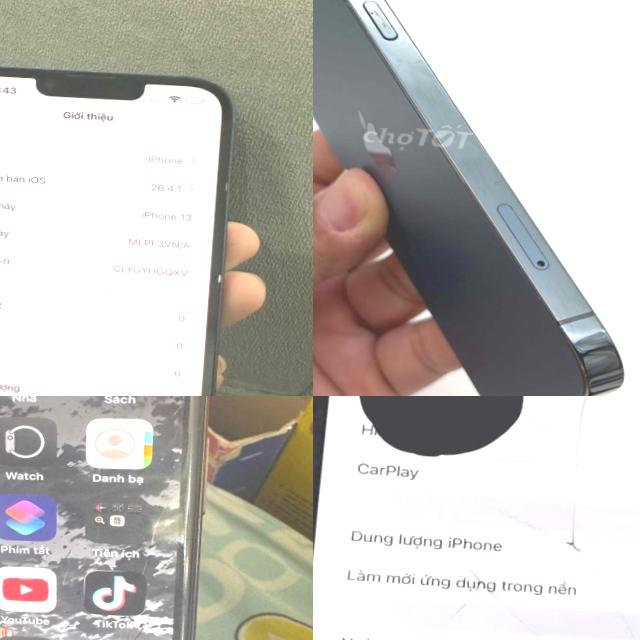physical_damage: (474, 489, 559, 551), (456, 562, 528, 621), (550, 495, 600, 560), (570, 560, 630, 614), (550, 438, 606, 494), (393, 601, 473, 640), (562, 396, 610, 441), (583, 608, 640, 640), (515, 617, 590, 640), (347, 630, 423, 640)
screen_defect: (374, 400, 470, 470), (443, 396, 533, 453), (346, 396, 390, 439)
